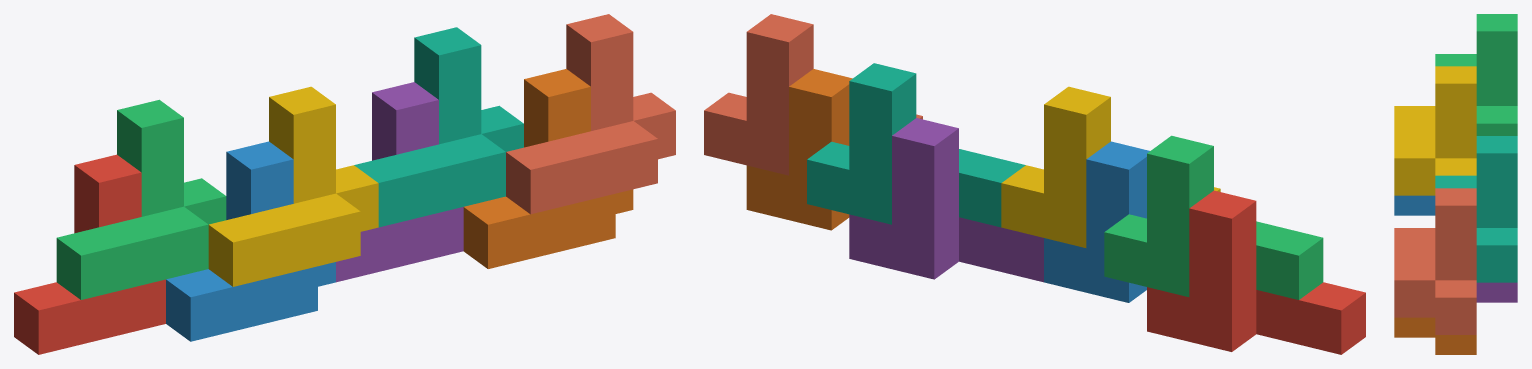
Rendered from tiling.obj.
3 renders of one model, left to right at view 1: azimuth 30°, elevation 25°; view 2: azimuth 150°, elevation 25°; view 3: azimuth 270°, elevation 25°, orthographic. The views are drawn at different scales.
Visible parts, largest first — view 1: copy_1_domain_4, copy_1_domain_8, copy_1_domain_3, copy_1_domain_7, copy_1_domain_2, copy_1_domain_6, copy_1_domain_1, copy_1_domain_5; view 2: copy_1_domain_1, copy_1_domain_5, copy_1_domain_3, copy_1_domain_7, copy_1_domain_4, copy_1_domain_8, copy_1_domain_2, copy_1_domain_6; view 3: copy_1_domain_8, copy_1_domain_4, copy_1_domain_7, copy_1_domain_3, copy_1_domain_6, copy_1_domain_2, copy_1_domain_5.
Part boxes in pixels (bbox=[...]): copy_1_domain_4: bbox=[208, 86, 378, 286]; copy_1_domain_8: bbox=[506, 14, 675, 214]; copy_1_domain_3: bbox=[56, 99, 226, 299]; copy_1_domain_7: bbox=[354, 27, 523, 227]; copy_1_domain_2: bbox=[166, 141, 335, 341]; copy_1_domain_6: bbox=[463, 69, 633, 268]; copy_1_domain_1: bbox=[14, 154, 165, 354]; copy_1_domain_5: bbox=[336, 82, 463, 282]; copy_1_domain_1: bbox=[1147, 190, 1365, 354]; copy_1_domain_5: bbox=[849, 118, 1043, 282]; copy_1_domain_3: bbox=[1104, 135, 1323, 299]; copy_1_domain_7: bbox=[807, 63, 1025, 227]; copy_1_domain_4: bbox=[1001, 86, 1220, 247]; copy_1_domain_8: bbox=[704, 14, 922, 175]; copy_1_domain_2: bbox=[1044, 141, 1149, 302]; copy_1_domain_6: bbox=[746, 69, 852, 230]; copy_1_domain_8: bbox=[1394, 188, 1476, 334]; copy_1_domain_4: bbox=[1394, 66, 1476, 195]; copy_1_domain_7: bbox=[1435, 136, 1517, 282]; copy_1_domain_3: bbox=[1435, 14, 1517, 135]; copy_1_domain_6: bbox=[1394, 317, 1476, 354]; copy_1_domain_2: bbox=[1394, 195, 1435, 215]; copy_1_domain_5: bbox=[1476, 282, 1517, 302].
Bounding box in the file's own units: 15 × 4 × 3.
